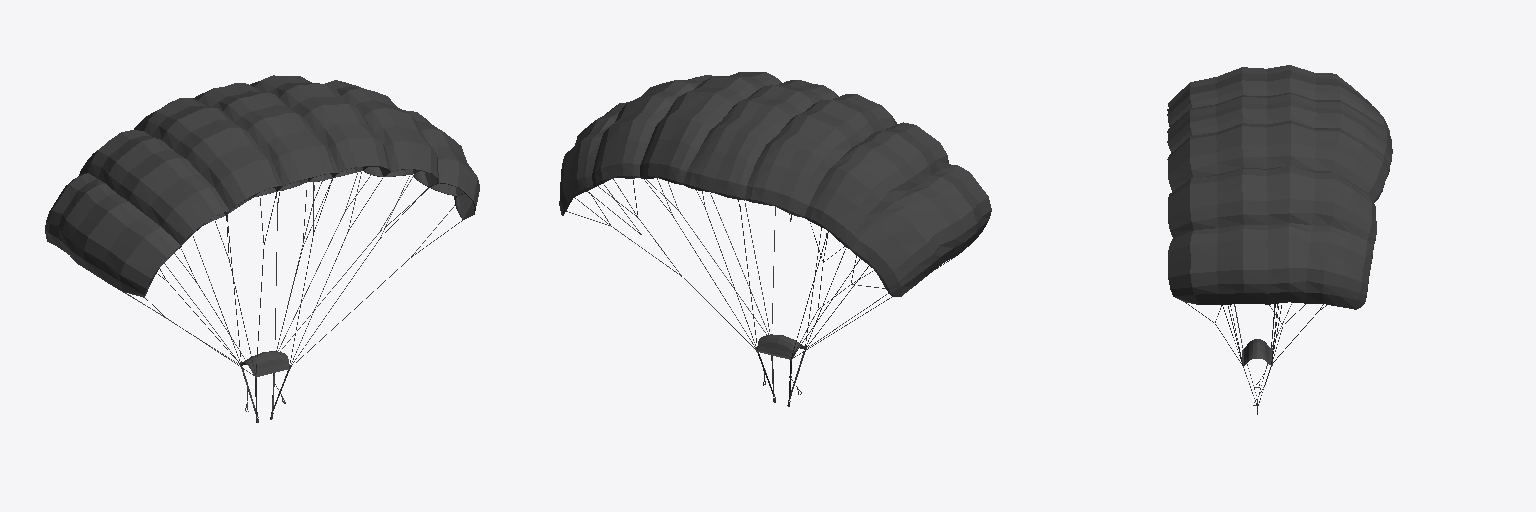
Rendered from parachute.obj.
The picture shows the model from 3 angles: view 1: azimuth 30°, elevation 25°; view 2: azimuth 150°, elevation 25°; view 3: azimuth 270°, elevation 25°; orthographic projection.
Visible parts, largest first — view 1: Mesh01; view 2: Mesh01; view 3: Mesh01.
Boxes of the visible parts, <box> form: Mesh01: <box>45,75,479,422</box>; Mesh01: <box>559,72,991,406</box>; Mesh01: <box>1167,65,1392,414</box>.
Size of the model in its own units: 40.75 by 31.94 by 20.85.